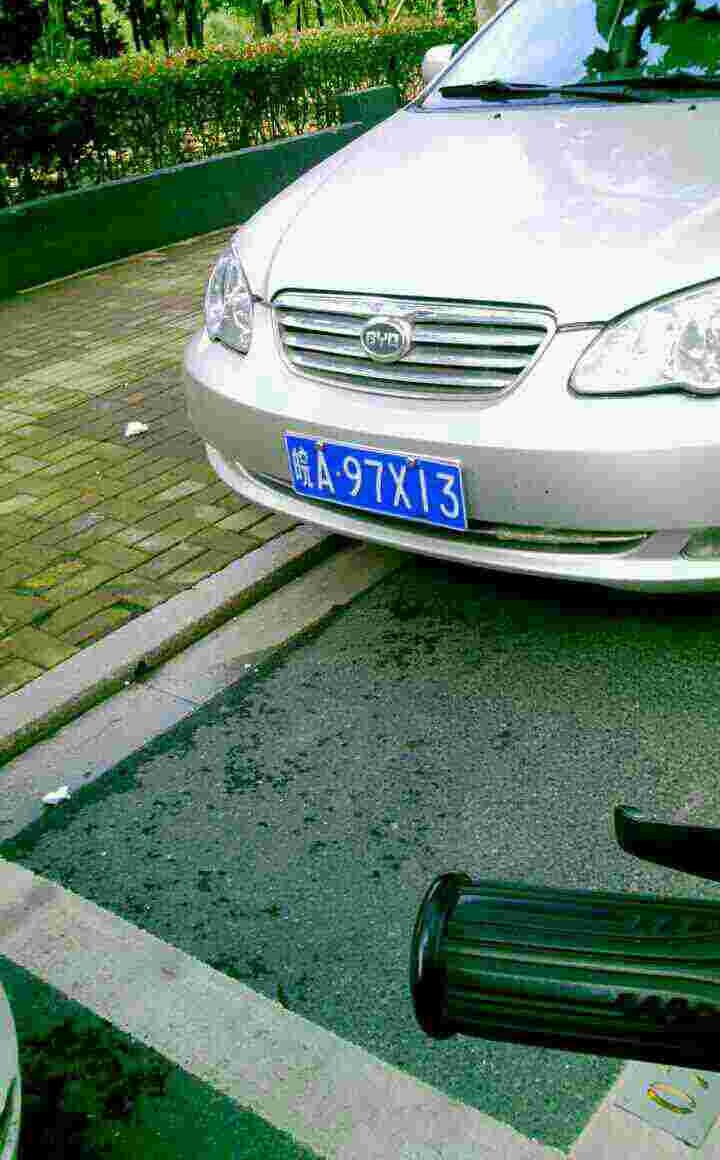car: (277, 433, 488, 532)
